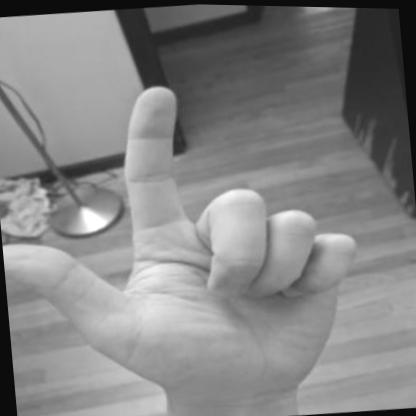L: (0, 45, 392, 416)
